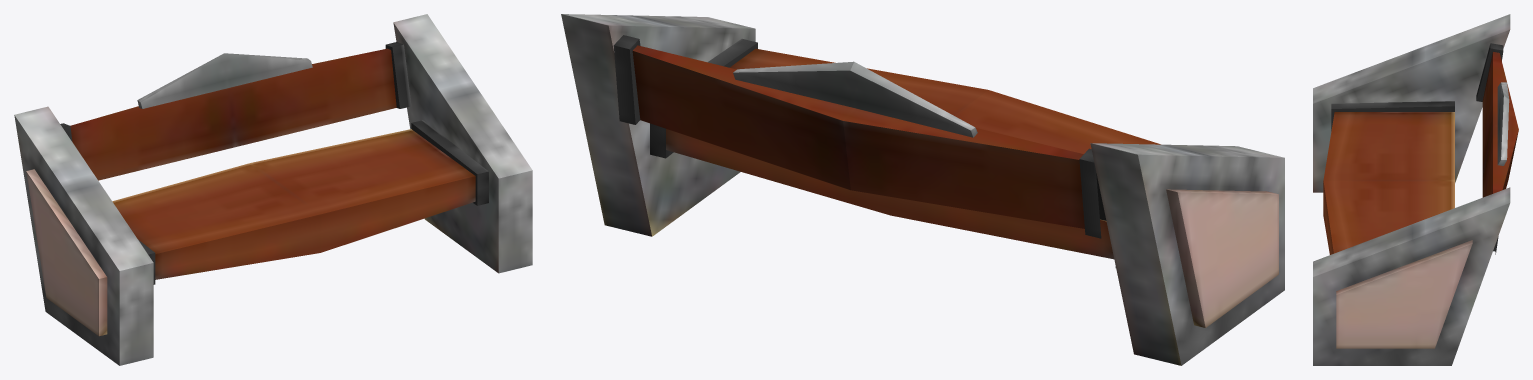
File: Bench_01.glb
The picture shows the model from 3 angles, left to right: view 1: azimuth 30°, elevation 25°; view 2: azimuth 150°, elevation 25°; view 3: azimuth 270°, elevation 25°; orthographic projection. The views are drawn at different scales.
Parts seen in each view (by area): view 1: Bench_01; view 2: Bench_01; view 3: Bench_01.
Boxes of the visible parts, x1,y1,x2,y2 form: Bench_01: [14, 14, 532, 365]; Bench_01: [561, 14, 1284, 365]; Bench_01: [1313, 14, 1518, 365].
Size of the model in its own units: 2.14 by 0.8923 by 0.9461.
1 material, 1 textured.
